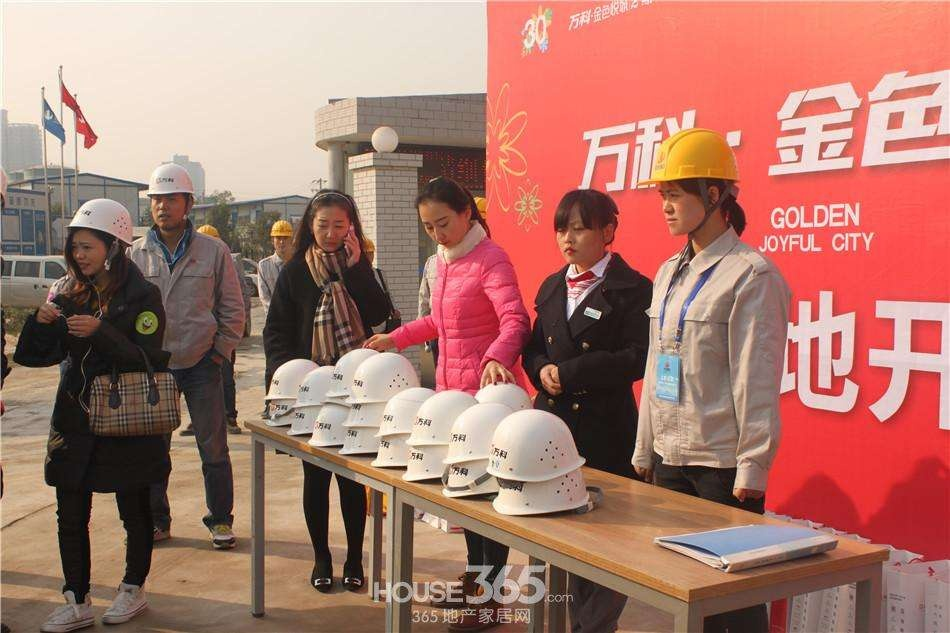none: (547, 188, 622, 266), (411, 174, 481, 249), (304, 188, 357, 252)
white: (60, 198, 137, 283), (140, 161, 198, 228)
yellow: (650, 125, 741, 241), (266, 217, 295, 253)
